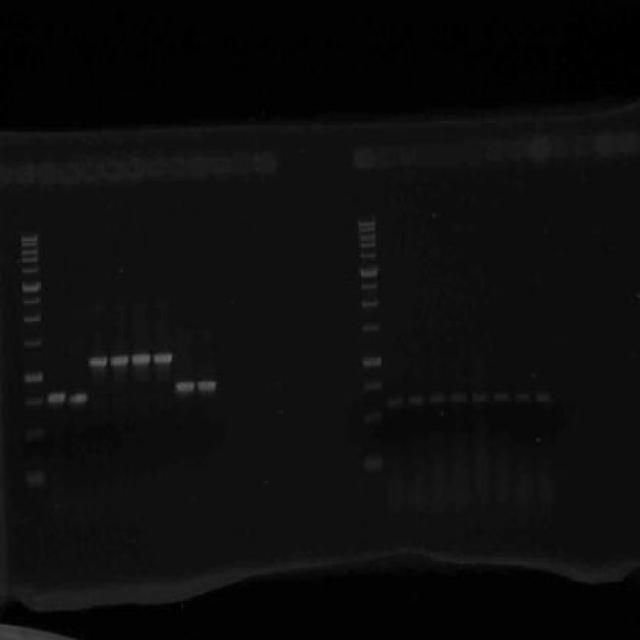B: (44, 388, 68, 406), (173, 378, 196, 396), (448, 388, 467, 407), (153, 350, 174, 367), (130, 350, 152, 366), (427, 390, 447, 407), (69, 390, 89, 407), (513, 388, 533, 404), (406, 392, 426, 408), (384, 394, 404, 410), (88, 354, 108, 369), (197, 377, 217, 392), (534, 391, 554, 406), (108, 354, 128, 368), (469, 390, 489, 404), (492, 390, 510, 404)
L: (346, 128, 640, 177), (11, 146, 282, 192)
M: (351, 204, 391, 483), (12, 227, 48, 495)
P: (357, 450, 388, 476), (20, 467, 46, 487), (23, 424, 45, 442), (362, 410, 384, 428), (360, 352, 382, 370), (356, 263, 378, 280), (21, 370, 44, 386), (22, 394, 44, 410), (20, 334, 42, 350), (361, 378, 384, 393), (20, 279, 42, 293), (359, 296, 381, 309), (360, 322, 380, 335), (358, 249, 378, 260), (21, 314, 44, 323), (19, 232, 39, 242), (20, 297, 42, 306), (358, 216, 376, 227), (357, 232, 375, 242), (360, 281, 378, 290), (20, 266, 40, 274), (19, 248, 39, 256), (357, 242, 377, 250), (20, 255, 38, 263), (20, 242, 38, 250), (358, 226, 376, 232)
Pc: (251, 148, 280, 182), (462, 134, 489, 168), (12, 156, 36, 189), (352, 140, 376, 173), (36, 155, 58, 188), (230, 148, 252, 181), (58, 160, 80, 188), (528, 133, 550, 161), (550, 132, 570, 160), (81, 158, 102, 184), (508, 132, 527, 160), (214, 149, 230, 182), (102, 160, 126, 182), (490, 134, 508, 163), (124, 157, 144, 180), (146, 156, 166, 178), (191, 156, 206, 178), (170, 157, 186, 177)
